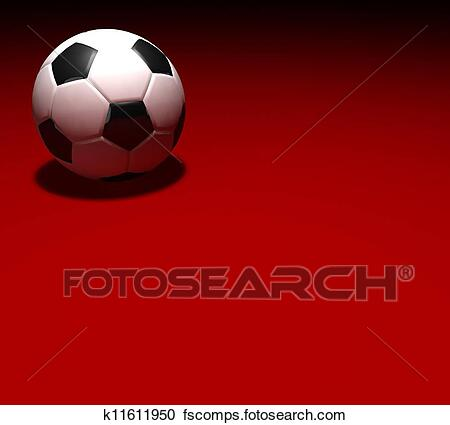football: (25, 19, 194, 187)
